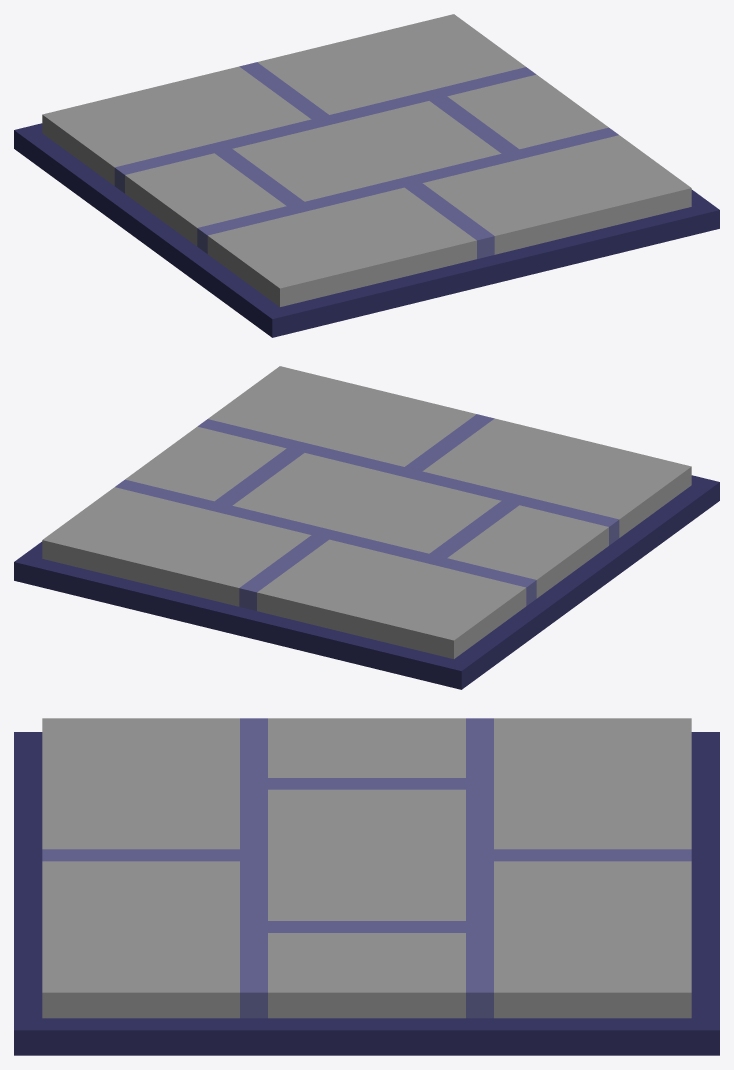
File: FloorTileSmall1.obj
3 views of the same model, one above another, from view 1: azimuth 30°, elevation 25°; view 2: azimuth 150°, elevation 25°; view 3: azimuth 270°, elevation 25° (orthographic). The views are drawn at different scales.
Bounding box in the file's own units: 25 × 2 × 25.
1 material, 1 textured.
